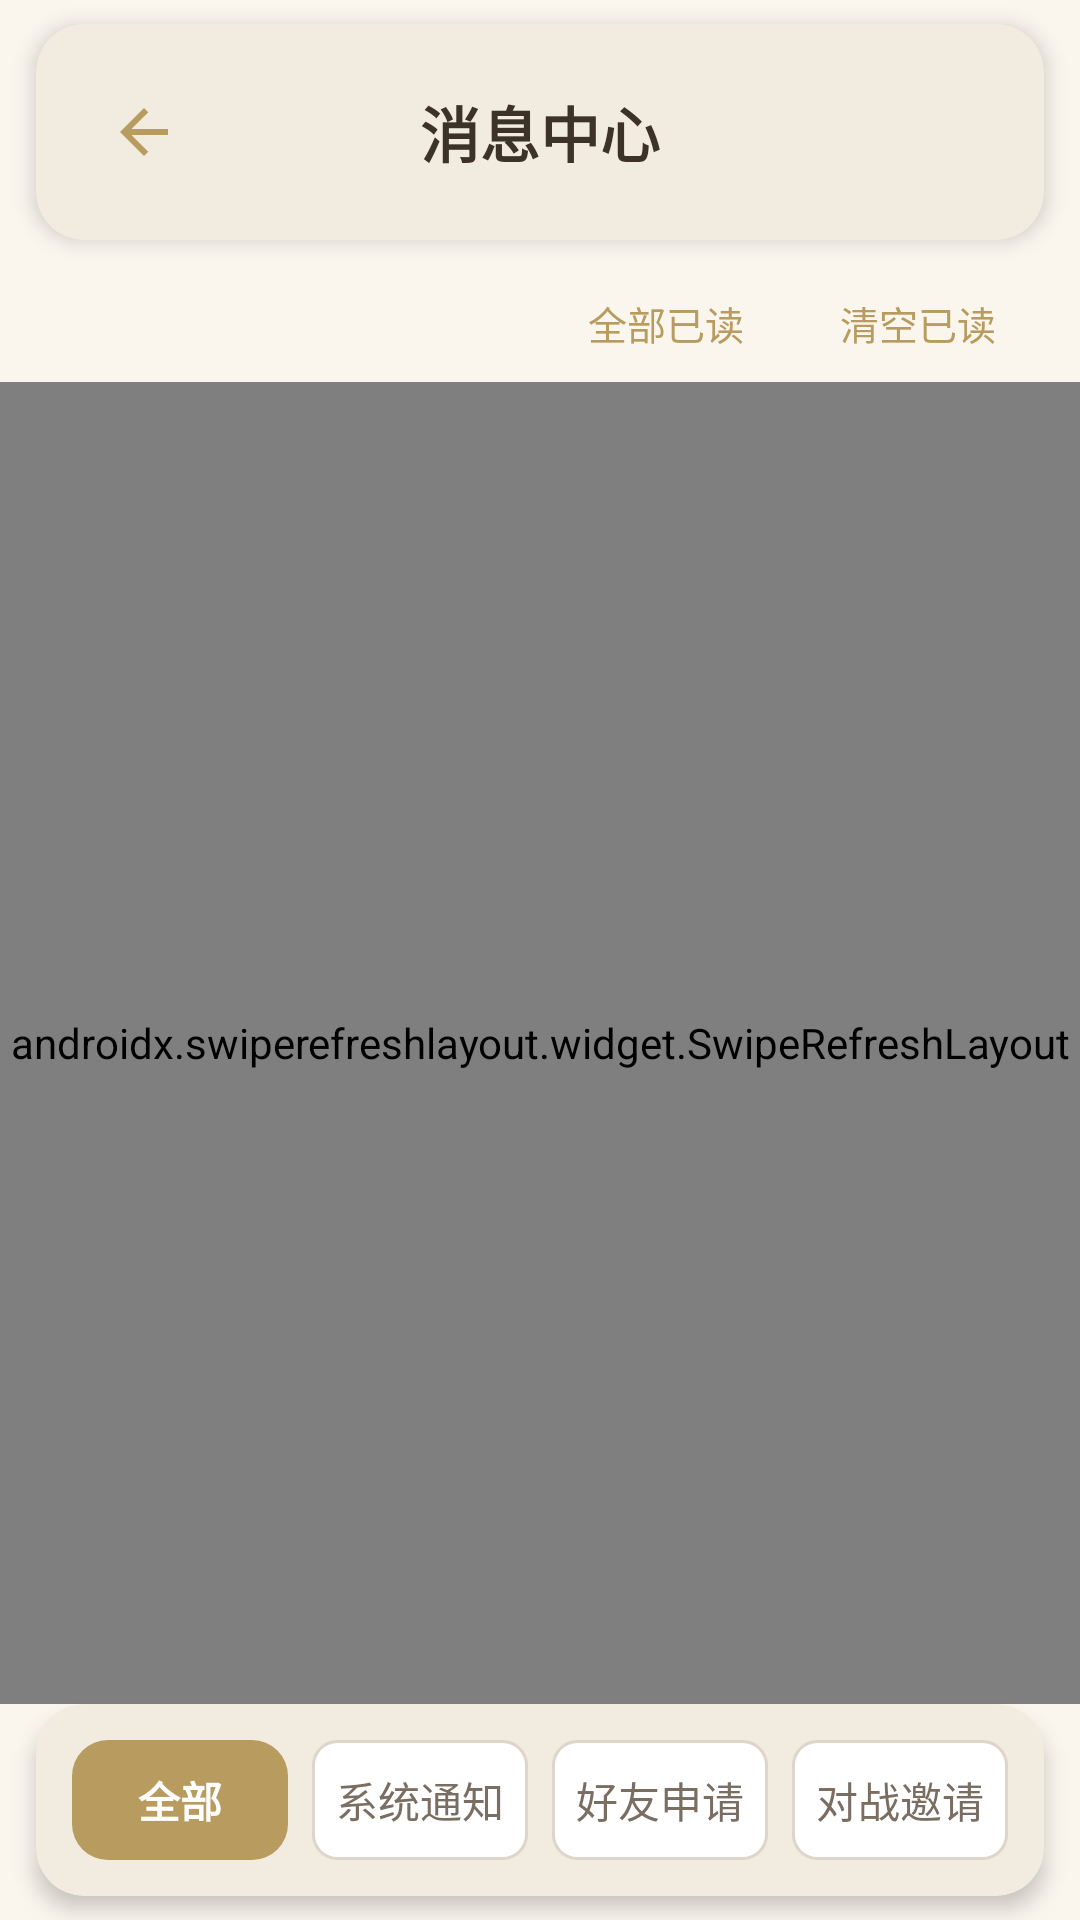

Icon click points for this 1080*1920 phone screenshot, format (x=x, y=y):
返回: (x=144, y=132)
